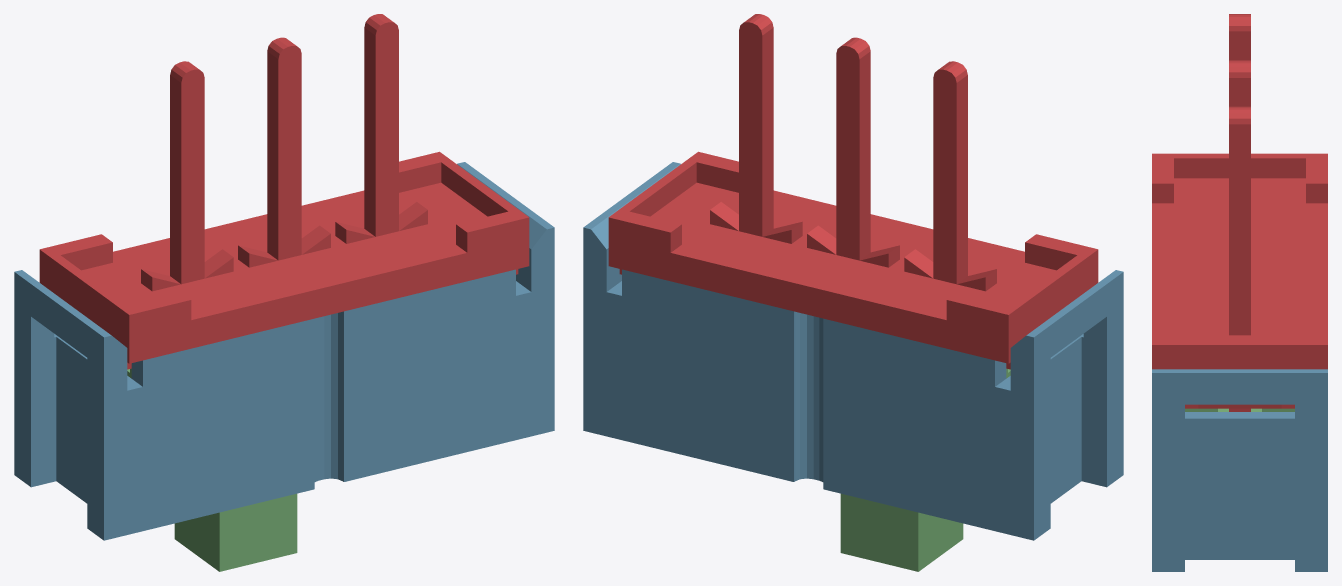
3 views of the same model, side by side, from view 1: azimuth 30°, elevation 25°; view 2: azimuth 150°, elevation 25°; view 3: azimuth 270°, elevation 25° (orthographic). The views are drawn at different scales.
Visible parts, largest first — view 1: g1, g0, g2; view 2: g1, g0, g2; view 3: g0, g1, g2.
Part boxes in pixels (x1,y1,x2,y2): g1: (14, 162, 554, 540); g0: (39, 14, 529, 369); g2: (127, 368, 297, 571); g1: (583, 162, 1123, 540); g0: (608, 14, 1098, 369); g2: (840, 368, 1010, 571); g0: (1152, 14, 1327, 411); g1: (1152, 369, 1327, 571); g2: (1185, 408, 1294, 411).
Bounding box in the file's own units: 1.82 × 1.9 × 0.6281.
